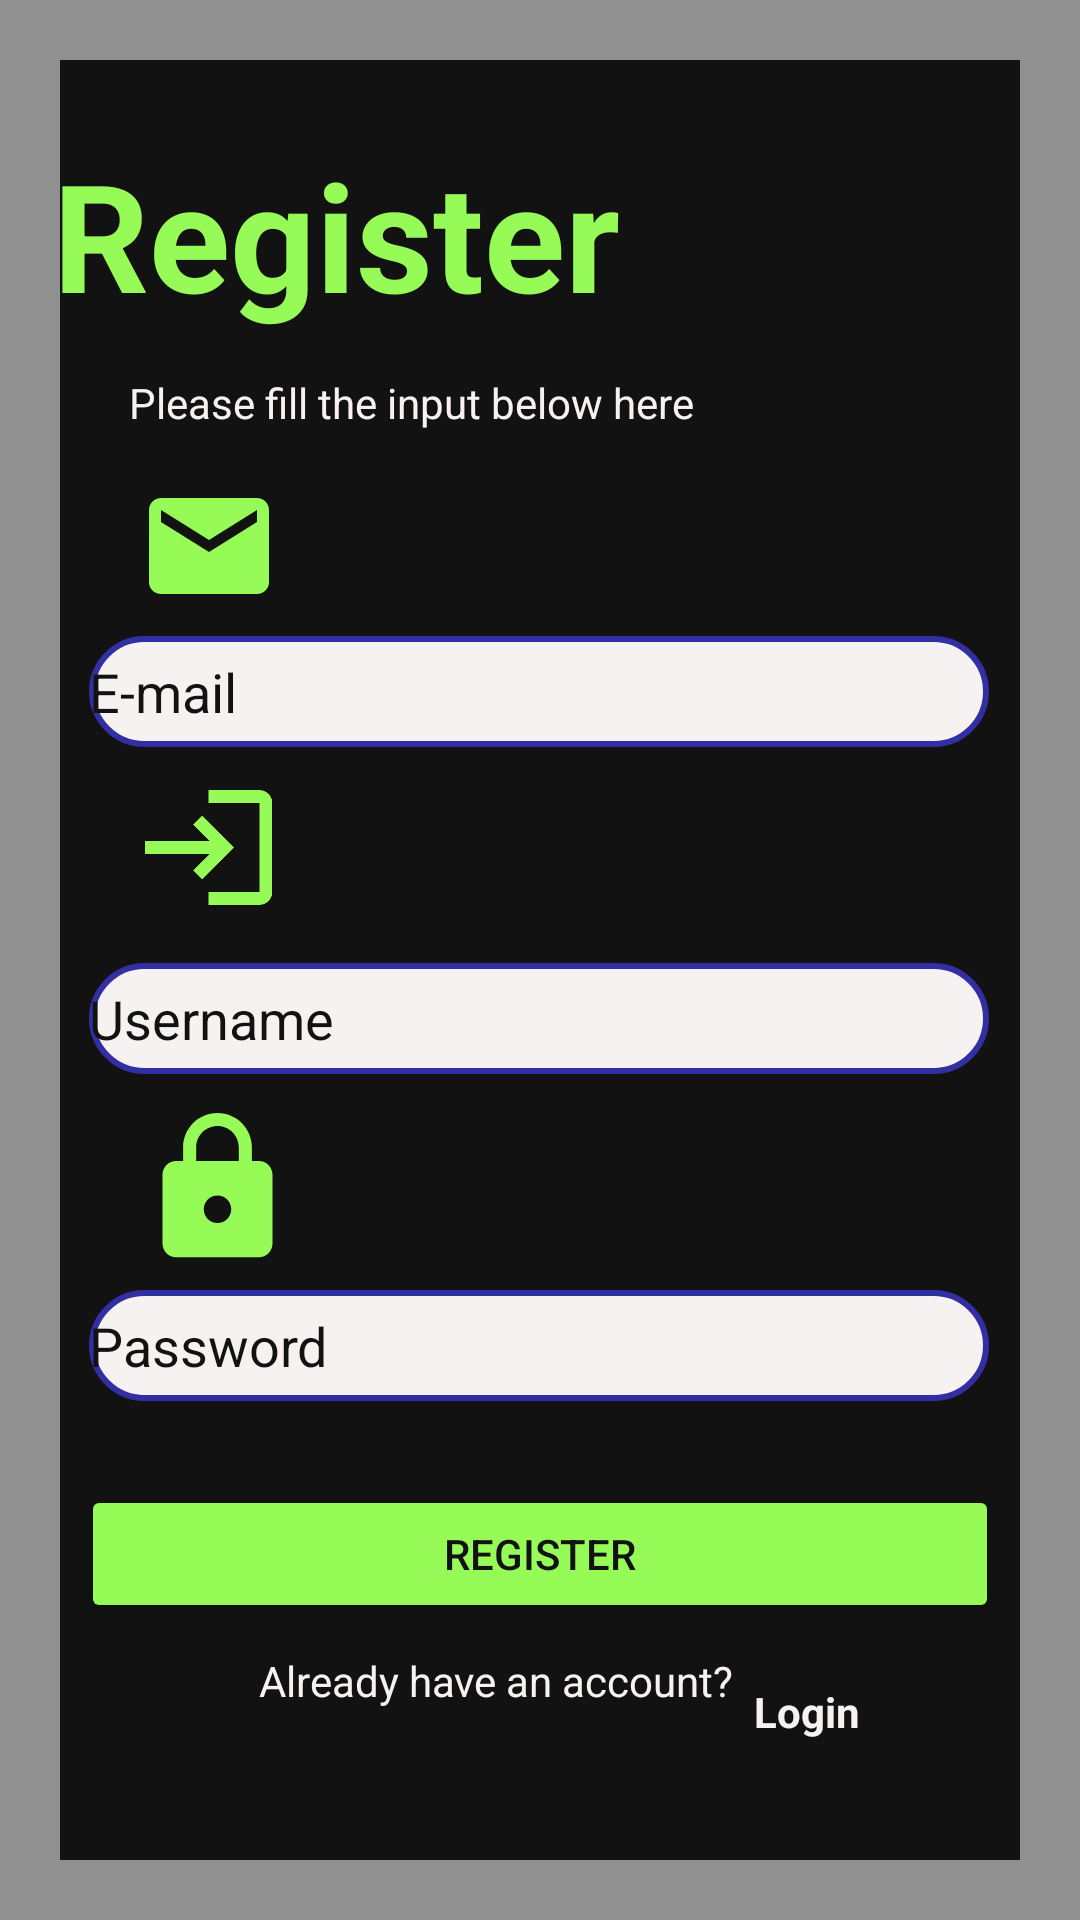

Screen size 1080px x 1920px. Icon name, then its center in pixels as (x=x, y=y):
lock: (x=217, y=1185)
login: (x=208, y=847)
